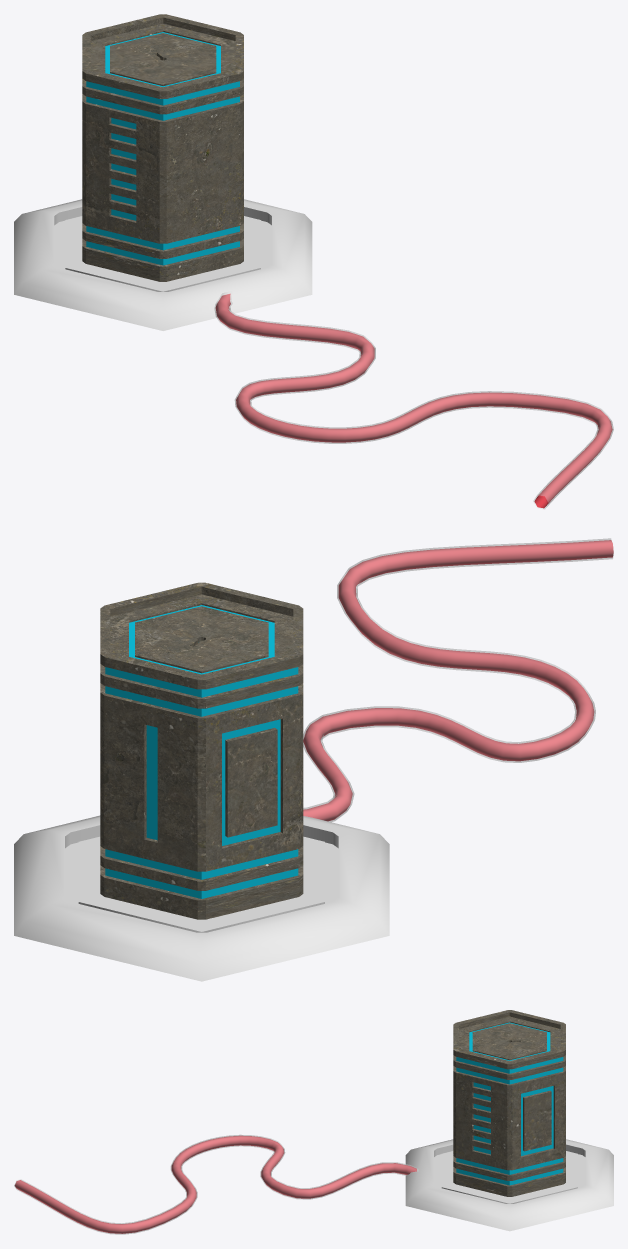
Rendered from KeyObj.fbx.
3 views of the same model, one above another, from view 1: azimuth 30°, elevation 25°; view 2: azimuth 150°, elevation 25°; view 3: azimuth 270°, elevation 25° (orthographic). The views are drawn at different scales.
Parts seen in each view (by area): view 1: 円柱.002, 円柱.003, ベジエカーブ, ベジエカーブ.001, 円柱.005, 円柱.001; view 2: 円柱.002, 円柱.003, ベジエカーブ, ベジエカーブ.001, 円柱.005, 円柱.001; view 3: 円柱.002, 円柱.003, ベジエカーブ, ベジエカーブ.001, 円柱.001, 円柱.005.
Part boxes in pixels (box(x1,y1,x2,y2)): 円柱.002: box(82, 14, 243, 281); 円柱.003: box(14, 199, 312, 330); ベジエカーブ: box(214, 291, 613, 509); ベジエカーブ.001: box(215, 294, 612, 508); 円柱.005: box(90, 23, 235, 88); 円柱.001: box(86, 32, 239, 265); 円柱.002: box(100, 582, 303, 919); 円柱.003: box(14, 815, 389, 981); ベジエカーブ: box(303, 538, 613, 822); ベジエカーブ.001: box(303, 540, 613, 821); 円柱.005: box(110, 594, 293, 675); 円柱.001: box(105, 605, 298, 898); 円柱.002: box(453, 1010, 565, 1196); 円柱.003: box(405, 1139, 613, 1231); ベジエカーブ: box(14, 1134, 418, 1234); ベジエカーブ.001: box(15, 1135, 416, 1233); 円柱.001: box(456, 1022, 563, 1185); 円柱.005: box(459, 1016, 560, 1061).
Bounding box in the file's own units: 259 × 163 × 616.
